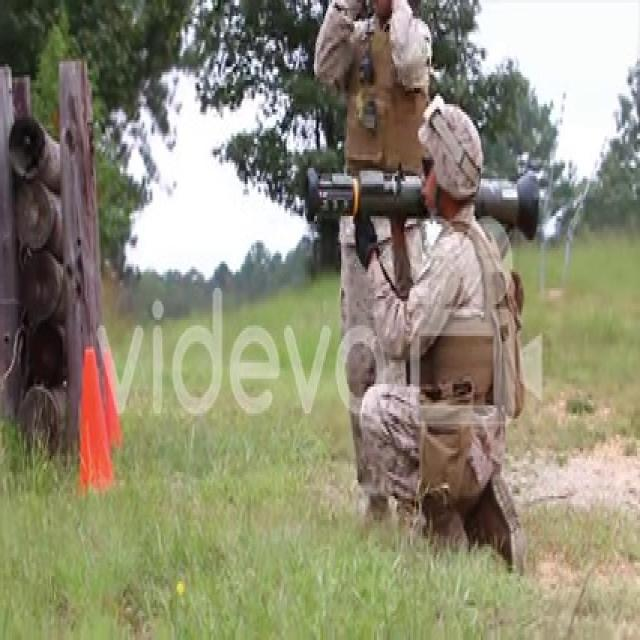bazooka: (302, 155, 547, 250)
